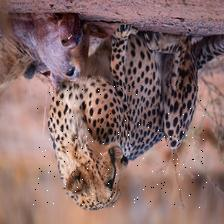Cheetha: (31, 86, 206, 208)
